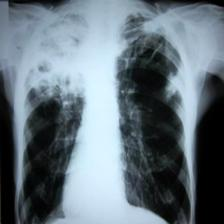tuberculosis: (11, 10, 197, 224)
